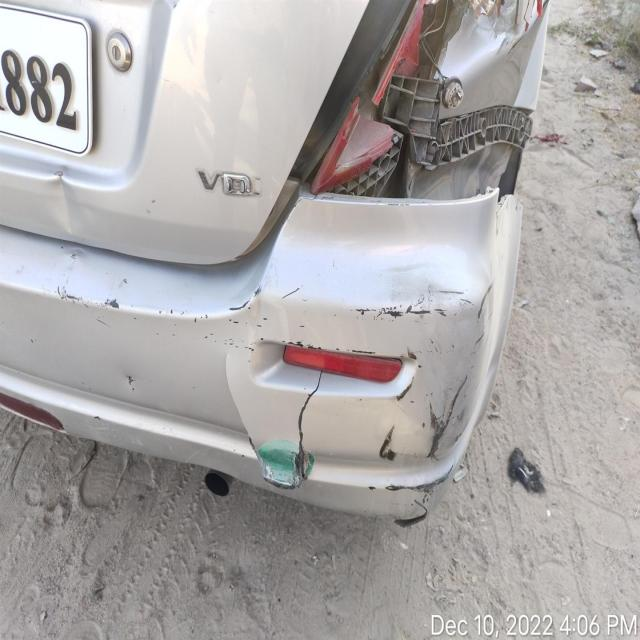damage: (304, 0, 549, 211), (224, 343, 326, 493), (50, 169, 83, 236)
